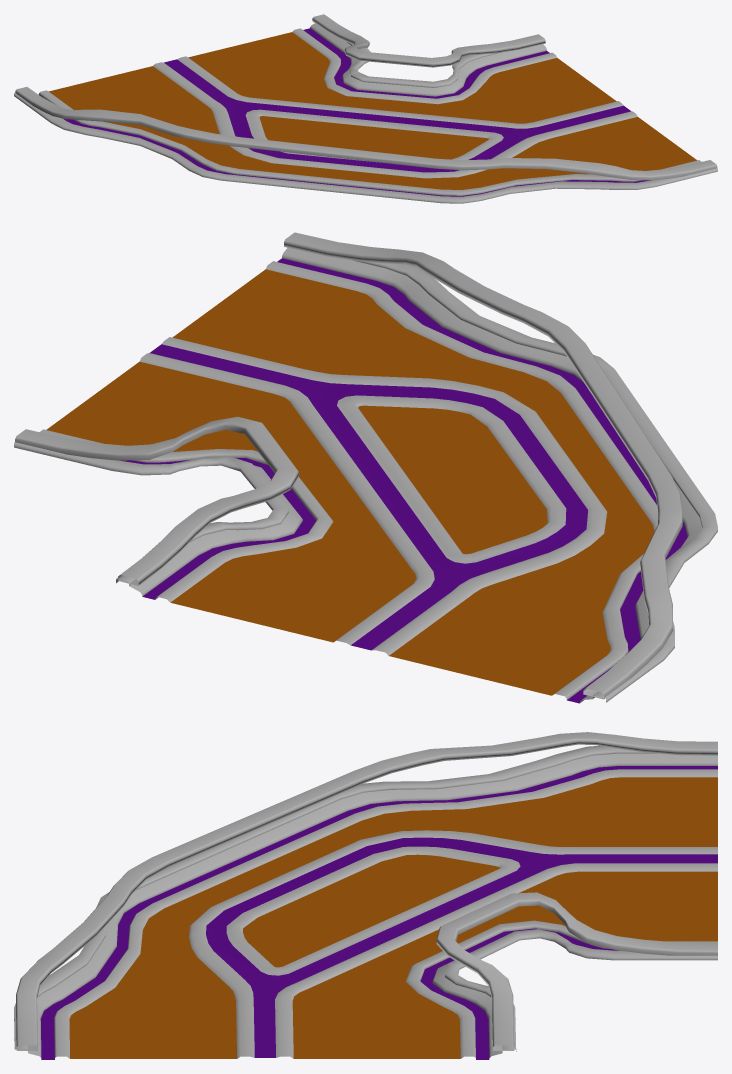
The model's file is CouloirPath3.fbx.
The picture shows the model from 3 angles, top to bottom: view 1: azimuth 30°, elevation 25°; view 2: azimuth 150°, elevation 25°; view 3: azimuth 270°, elevation 25°; orthographic projection. The views are drawn at different scales.
Visible parts, largest first — view 1: CouloirPath3_low; view 2: CouloirPath3_low; view 3: CouloirPath3_low.
Boxes of the visible parts, x1,y1,x2,y2 form: CouloirPath3_low: [14, 14, 717, 203]; CouloirPath3_low: [14, 232, 717, 703]; CouloirPath3_low: [14, 732, 717, 1059].
Bounding box in the file's own units: 19.74 × 1.37 × 19.25.
